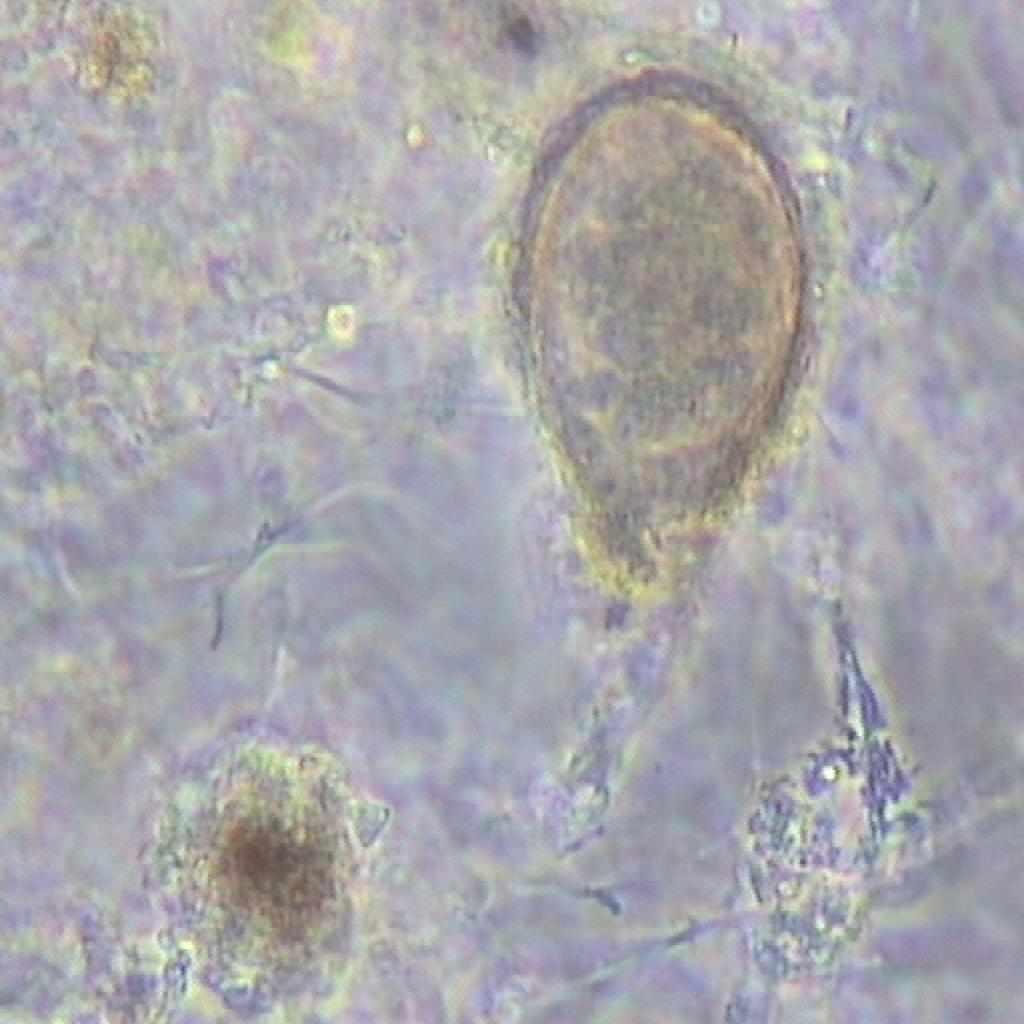Chaetopira: (493, 40, 837, 702)
